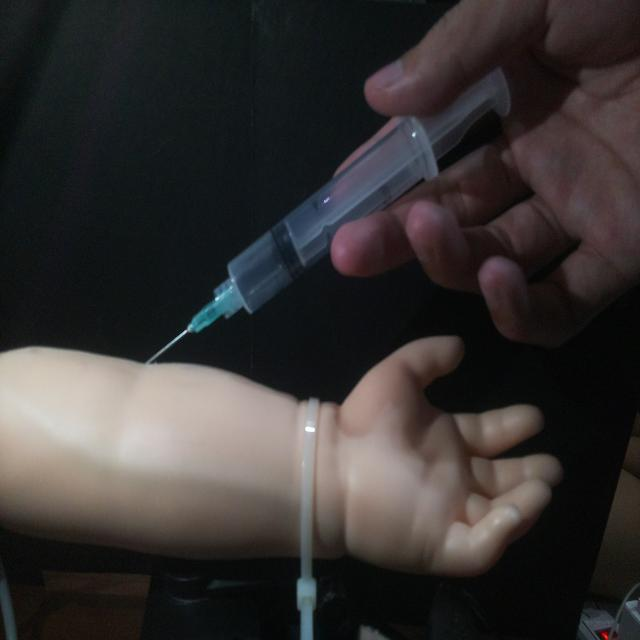26deg: (140, 63, 514, 367)
